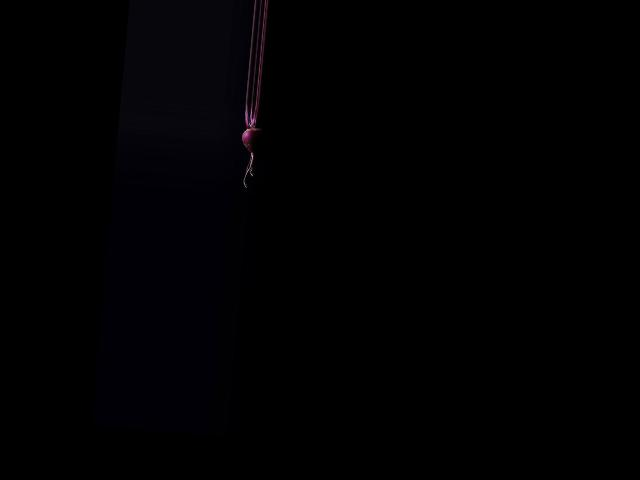beet: (236, 101, 267, 189)
